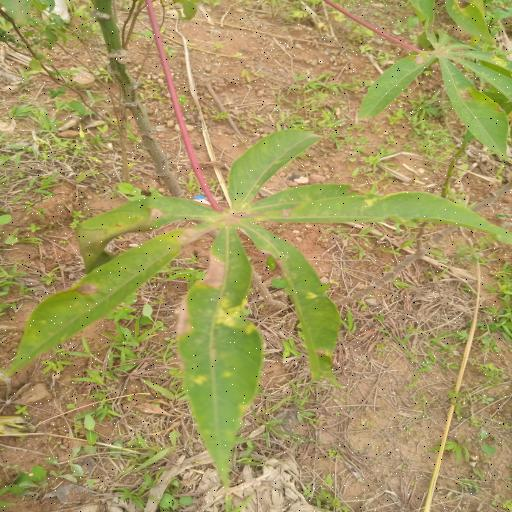Cassava_Brown_Leaf_Spot: (9, 126, 512, 490)
